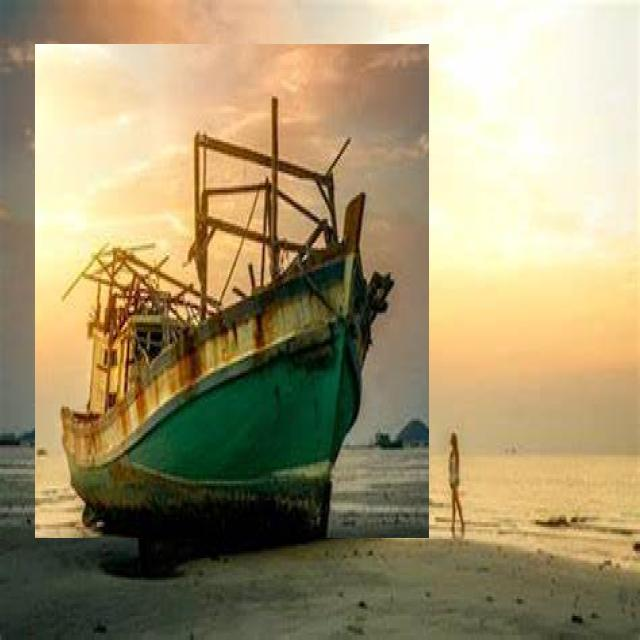Fishing Boat: (35, 44, 429, 538)
